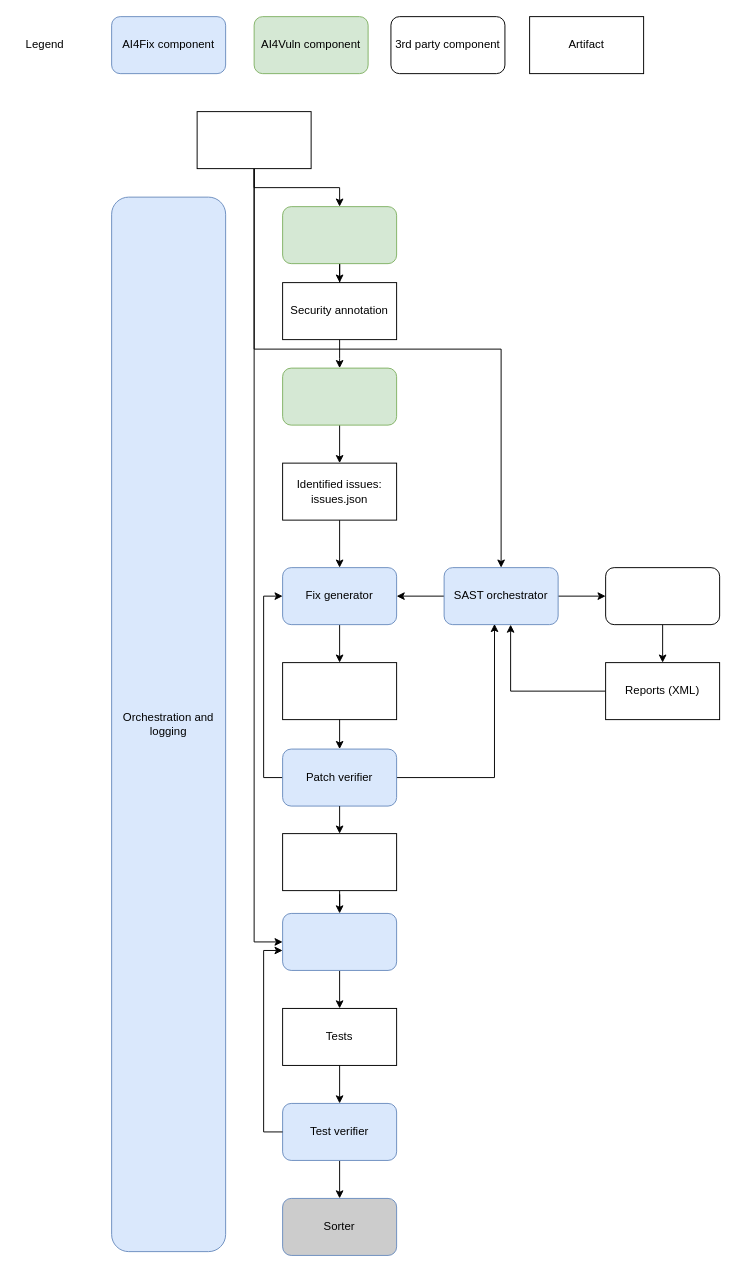
The diagram is 736 pixels wide and 1272 high, and some of its shapes have lost their labels. Here are the shapes that lost their labels. From the top down, the centre of each, then its label:
At pixel 253 140: "Source code".
At pixel 339 235: "Security classifier".
At pixel 339 396: "Symbolic execution".
At pixel 662 596: "SAST tools (e.g. Spotbugs, PMD)".
At pixel 339 691: "Patches".
At pixel 339 862: "Verified patches".
At pixel 339 941: "Test generator".
